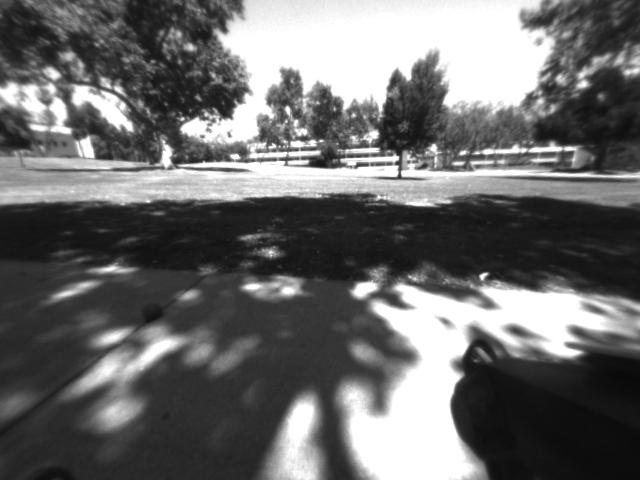dogtoy: (137, 300, 168, 327)
